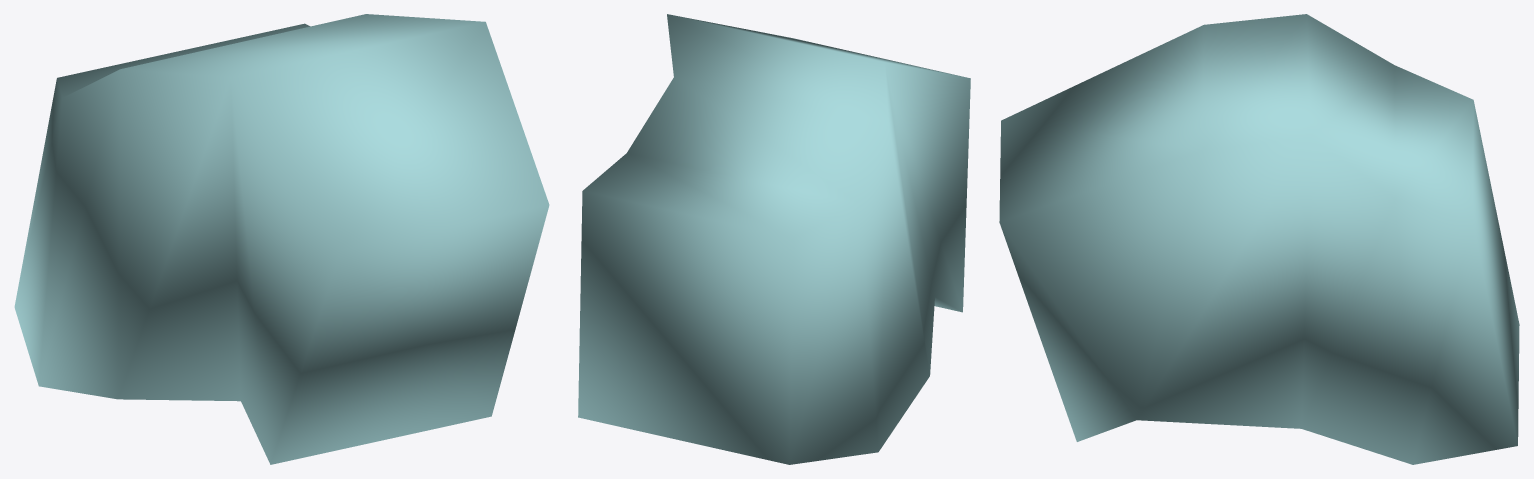
File: Skelly_heel.02.R.fbx
The picture shows the model from 3 angles, left to right: view 1: azimuth 30°, elevation 25°; view 2: azimuth 150°, elevation 25°; view 3: azimuth 270°, elevation 25°; orthographic projection. The views are drawn at different scales.
Parts seen in each view (by area): view 1: Skelly_heel.02.R; view 2: Skelly_heel.02.R; view 3: Skelly_heel.02.R.
Boxes of the visible parts, x1=… form: Skelly_heel.02.R: x1=14, y1=14, x2=549, y2=464; Skelly_heel.02.R: x1=578, y1=14, x2=970, y2=464; Skelly_heel.02.R: x1=999, y1=14, x2=1519, y2=464.
Size of the model in its own units: 6.49 by 6.61 by 8.75.
